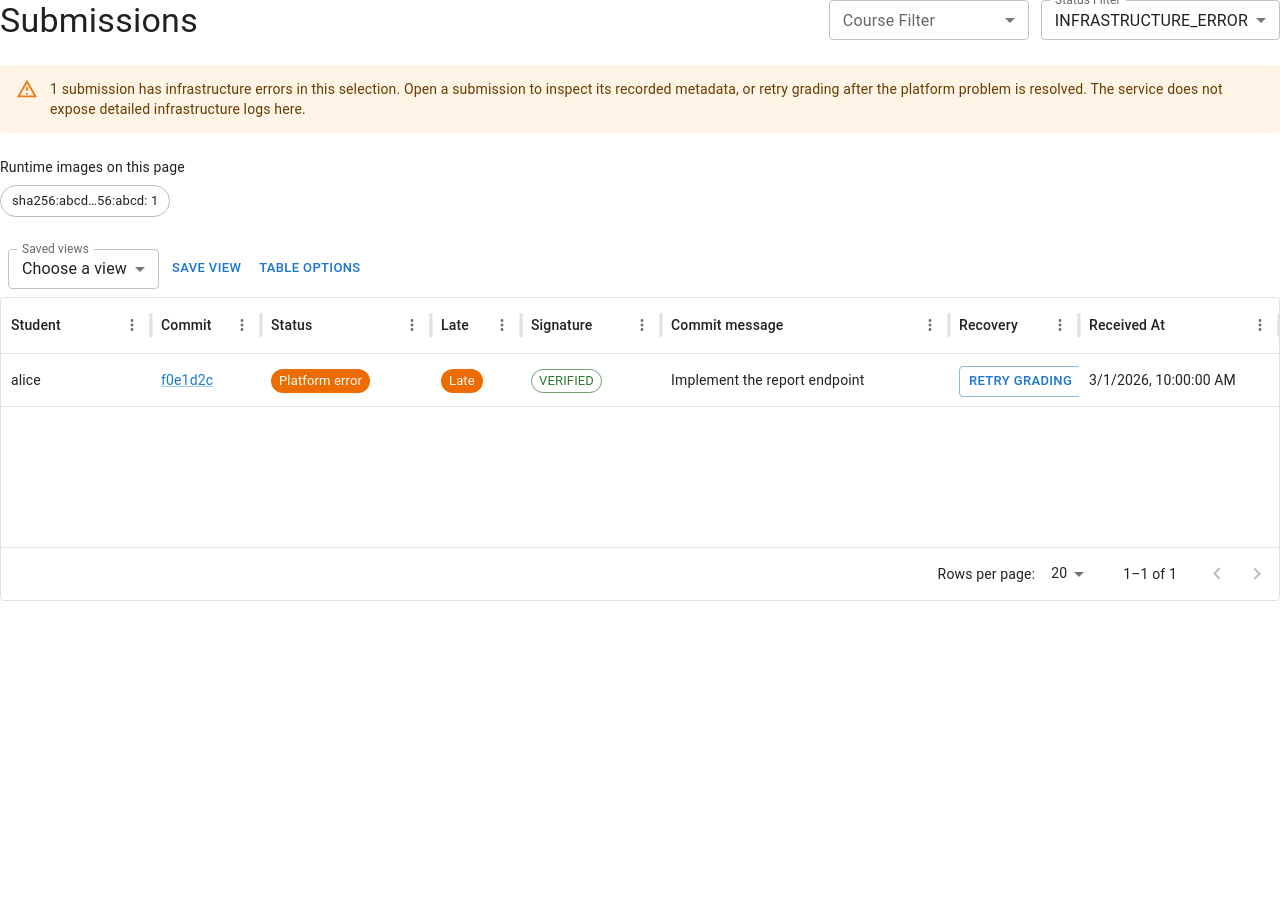
keeps a failed retry visible and allows another try
What coordinates should you click on to do the following:
click the button "Retry grading"
I would click on:
 (1021, 381)
Its box is [959,366,1082,397].
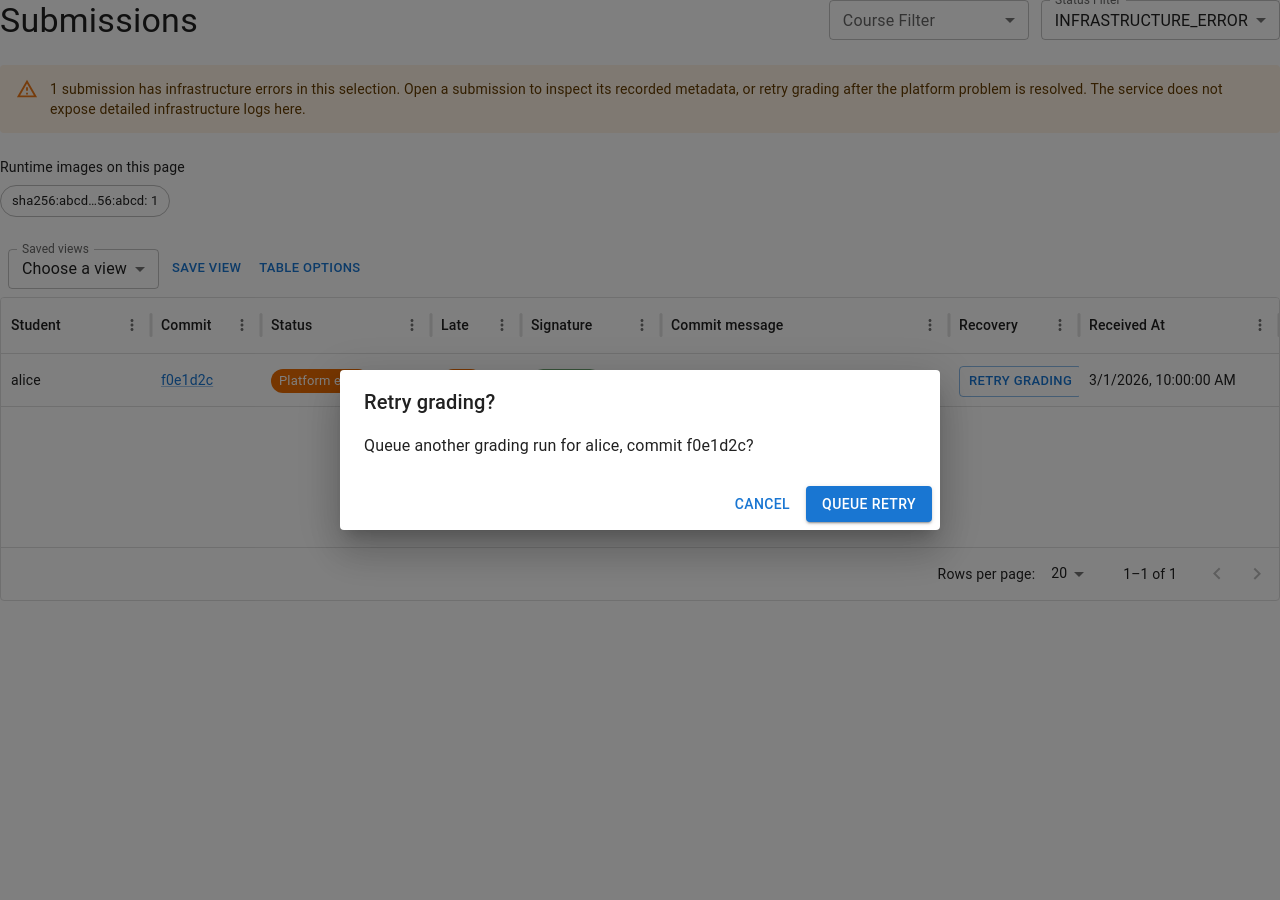
What coordinates should you click on to do the following:
click the button "Queue retry"
I would click on:
 (869, 504)
Its box is [806,486,932,522].
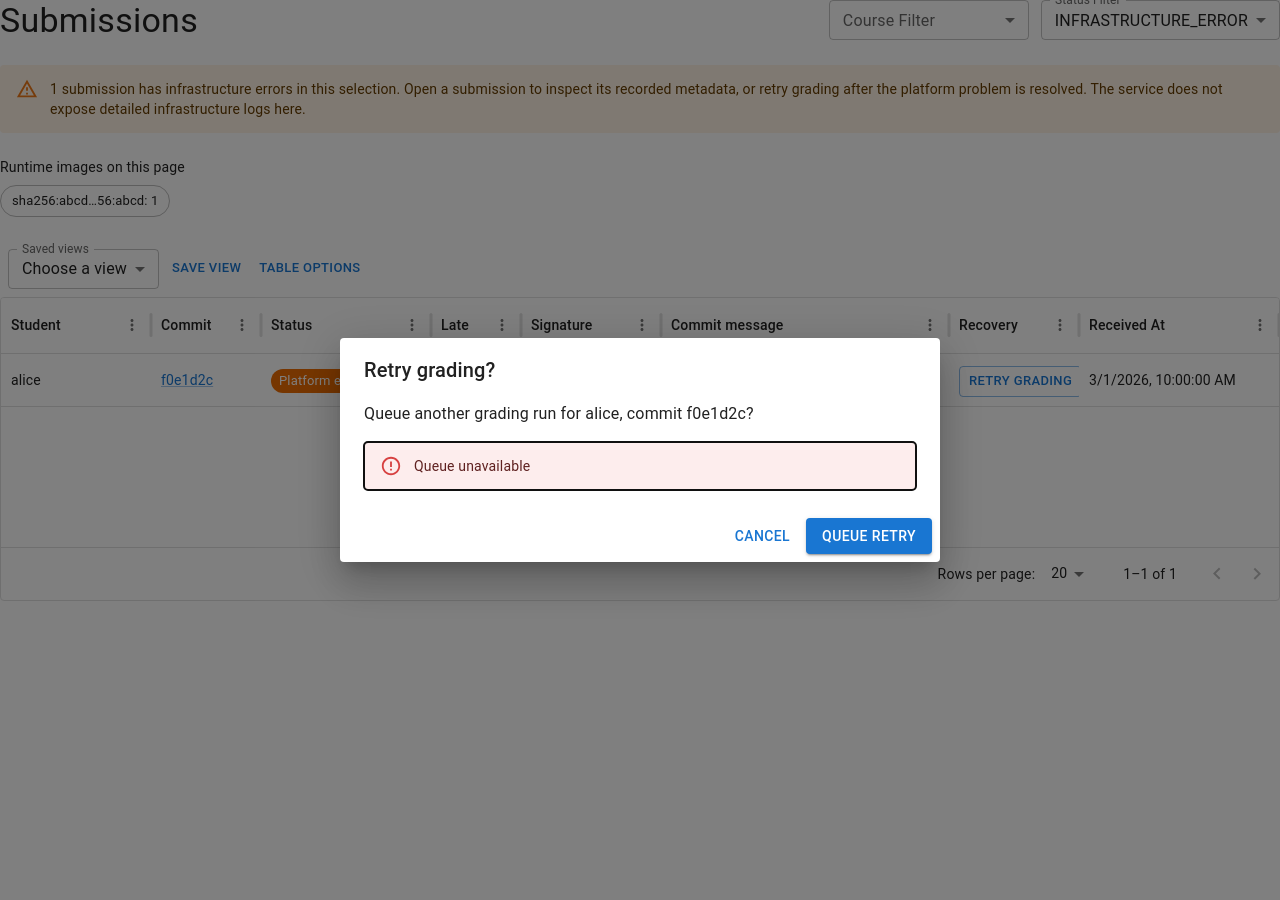
Check: the dialog is shown, box [340,338,940,562]
Check: the text "Queue unavailable" is shown, box [414,458,530,474]
What coordinates should you click on to do the following:
click the button "Queue retry"
I would click on:
 (869, 536)
Its box is [806,518,932,554].
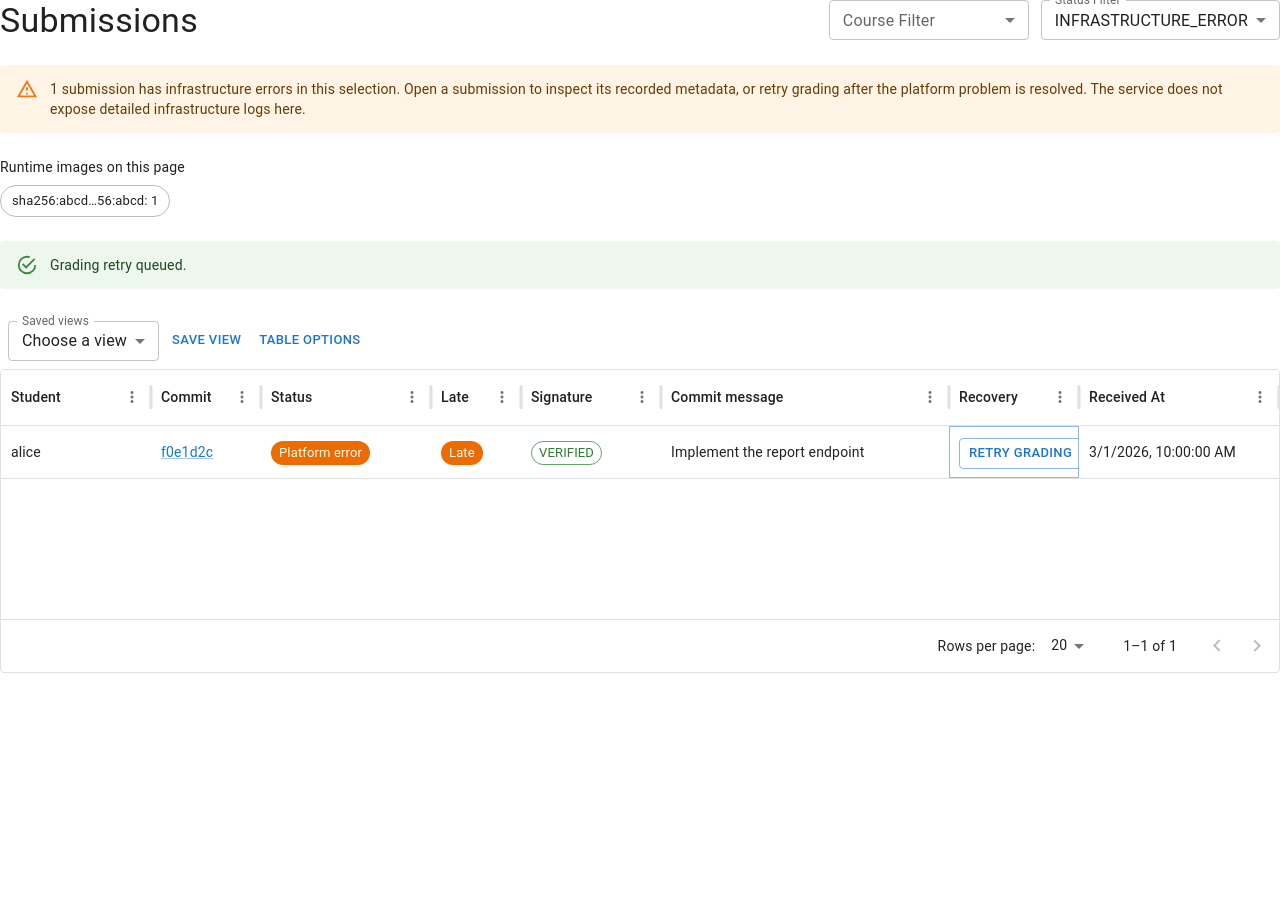
Check: the dialog is gone
Check: the text "Grading retry queued." is shown, box [50,257,186,273]
